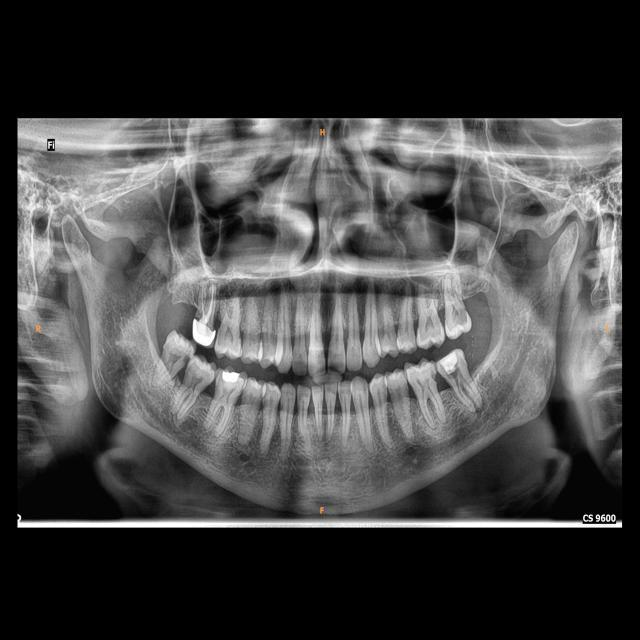dentin-curugu: (445, 302, 470, 333)
dolgu: (216, 367, 244, 390), (441, 350, 462, 380)
kanal-tedavisi: (197, 282, 216, 324)
kaplama: (187, 316, 218, 348)
